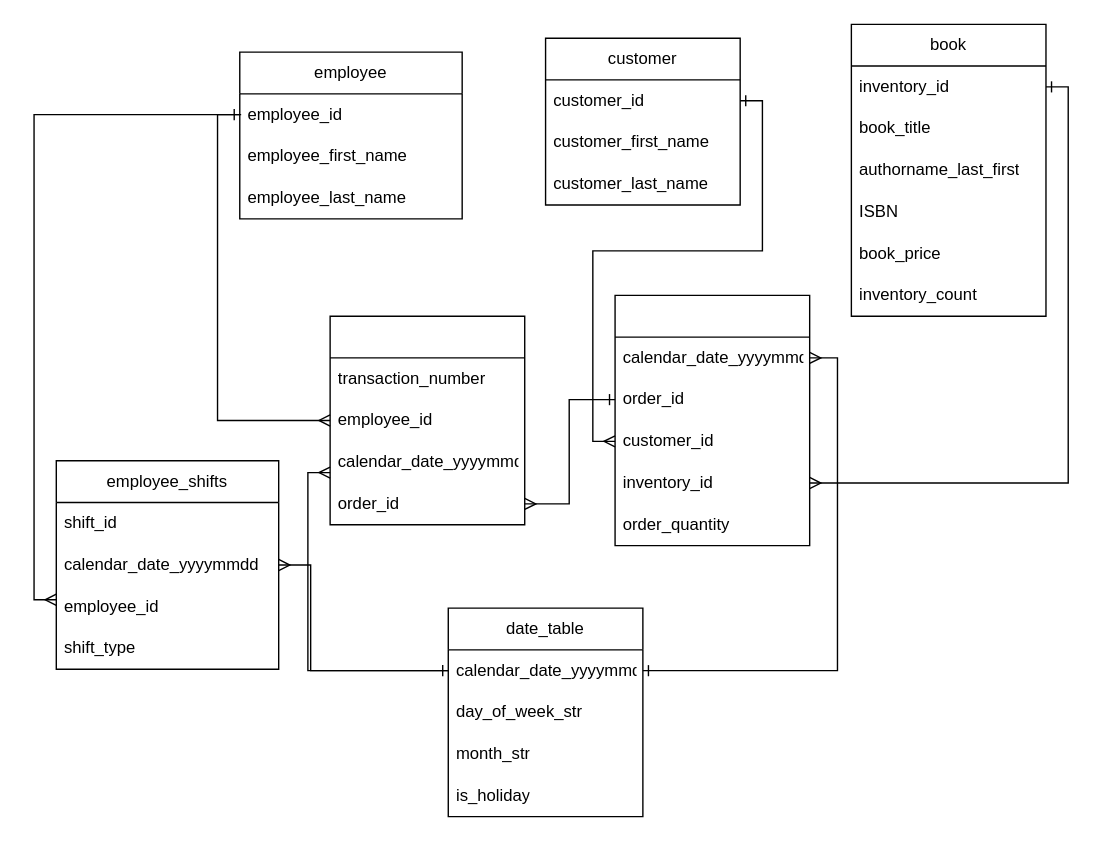
Image size: 1105x841. Some labels were removed from this diagram. The shapes that lost their labels are listed below. From the top down, each one's box as (x1, y1, x2, y2) in pixels, then its label:
(329, 315, 525, 525): sales
(614, 294, 810, 546): customer_order
